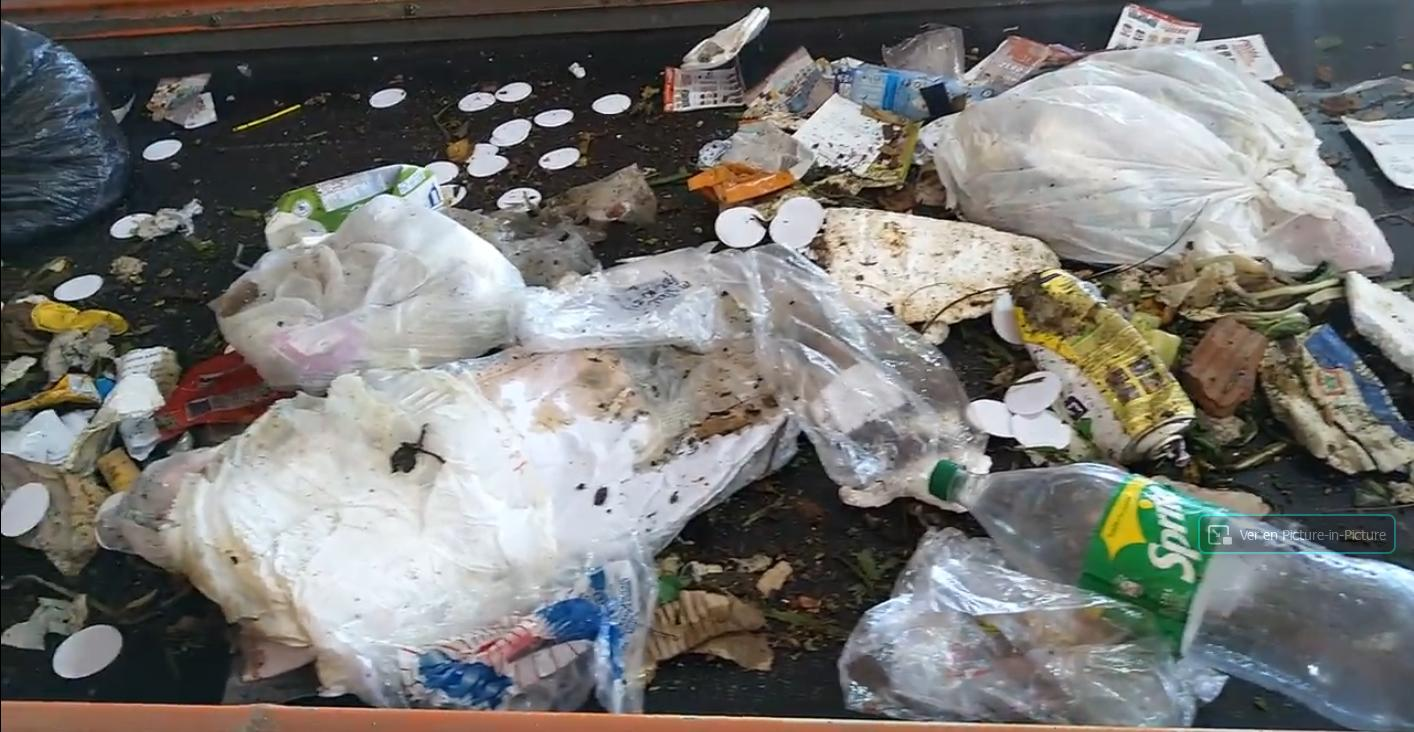bottle: (917, 446, 1404, 732), (2, 60, 115, 116)
